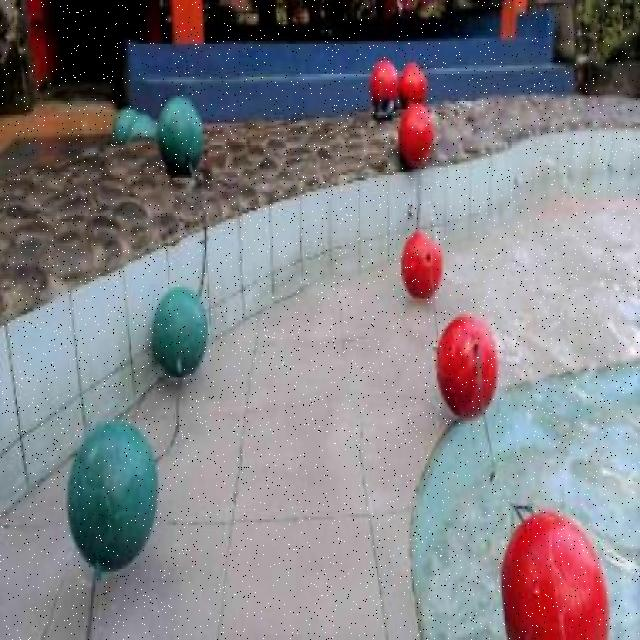buoy: (66, 418, 159, 572), (500, 511, 611, 638), (435, 314, 498, 418), (152, 284, 208, 377), (157, 95, 203, 172), (400, 230, 441, 300), (396, 101, 435, 166), (370, 57, 400, 107), (399, 59, 426, 110)
